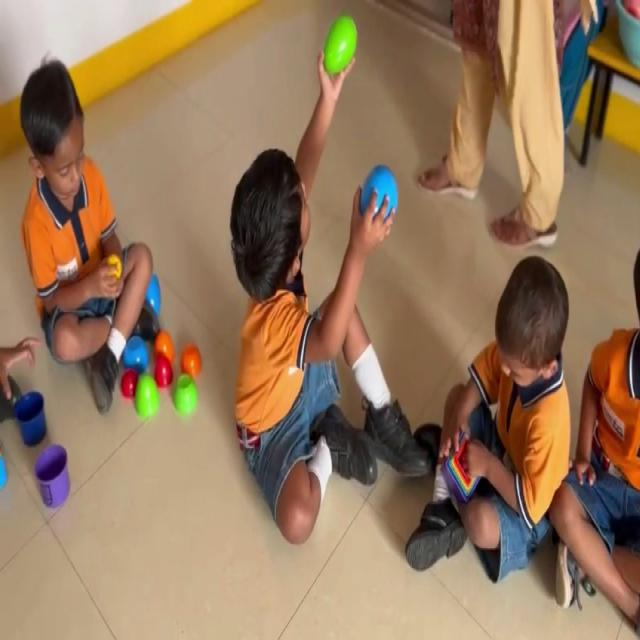child: (222, 26, 460, 573), (14, 25, 201, 452), (402, 248, 581, 611)
